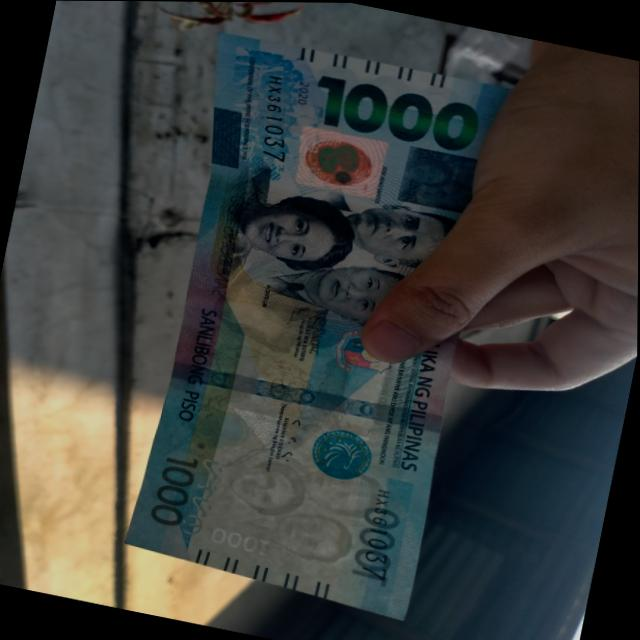concealed_value: (400, 145, 480, 215)
optically_variable_device: (294, 126, 389, 200)
security_thread: (171, 361, 445, 433)
see_through_mark: (178, 455, 227, 542)
serial_number: (252, 72, 302, 164)
value_watermark: (208, 525, 273, 558)
watermark: (213, 449, 388, 576)
